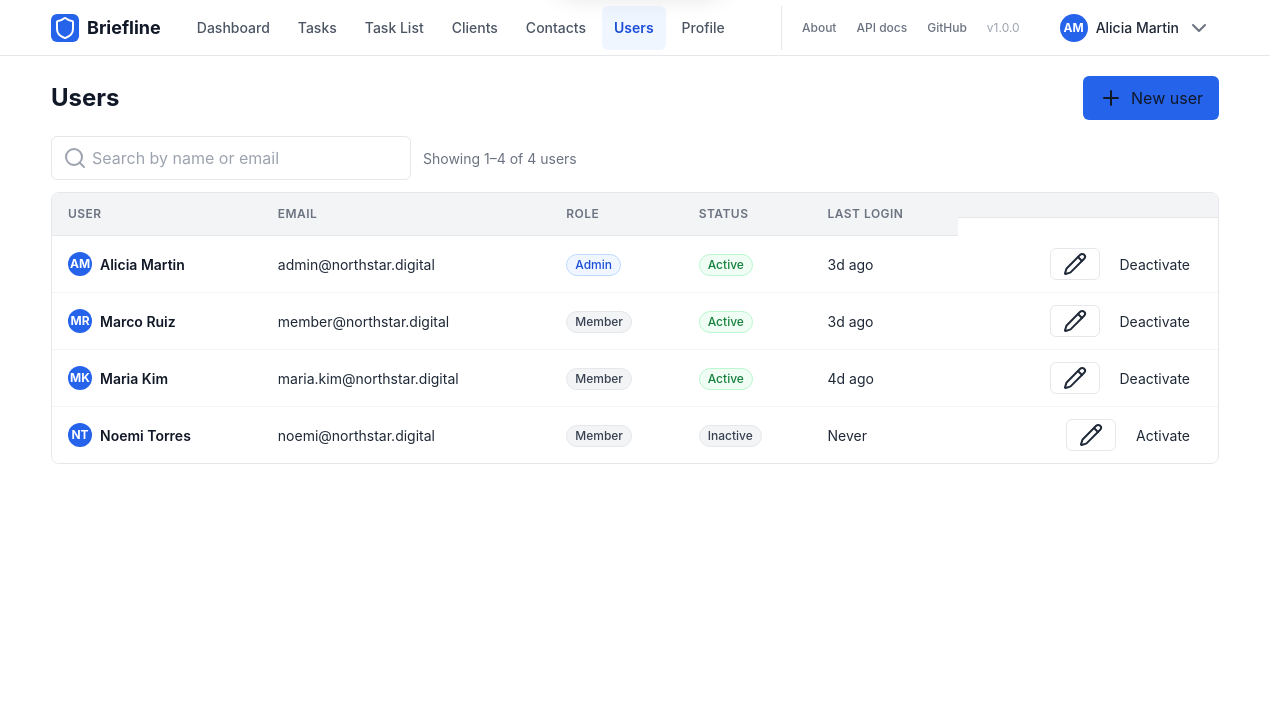
it: User management › creates a user without ever redisplaying the initial password
Expected: the heading "Users" is shown, [51,83,120,113]
Expected: the table named "Users" is shown, [52,193,1218,463]
Step 1. Click the button "New user" → (1151, 98), box [1083,76,1219,120]
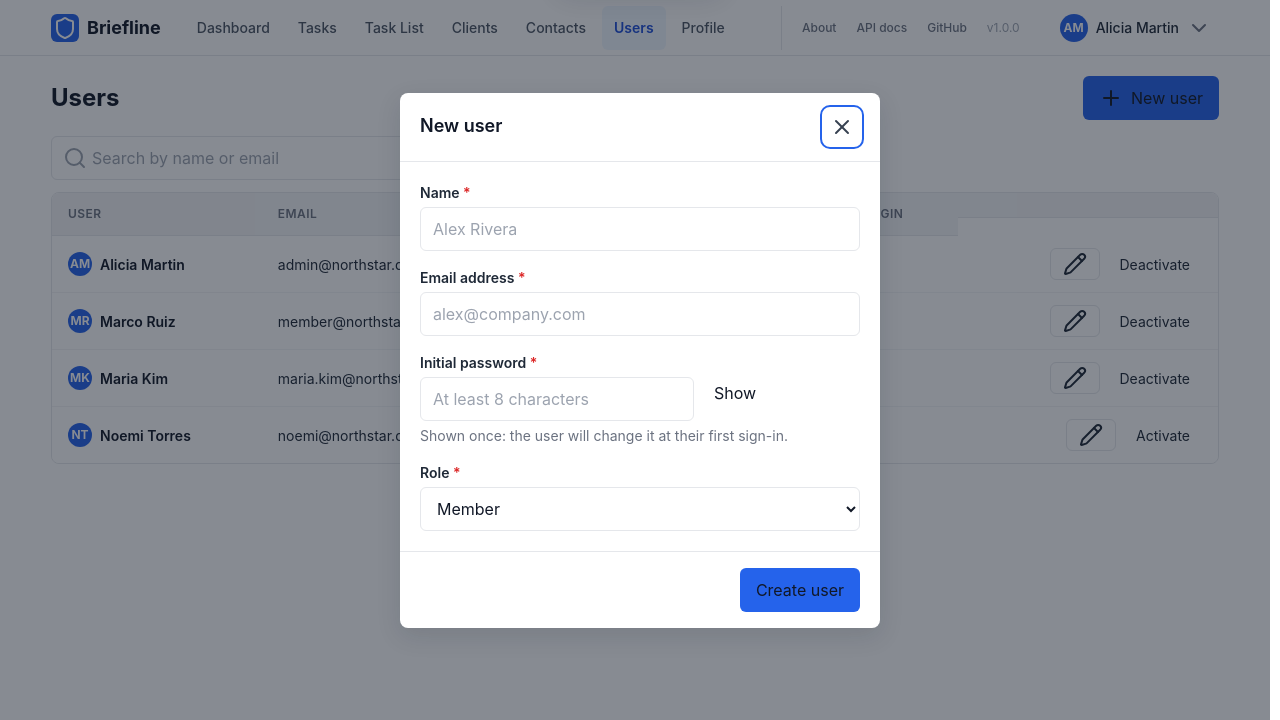
Step 2. Type "Jordan Lee" into the field labelled "Name *" → (640, 228), box [420,206,860,250]
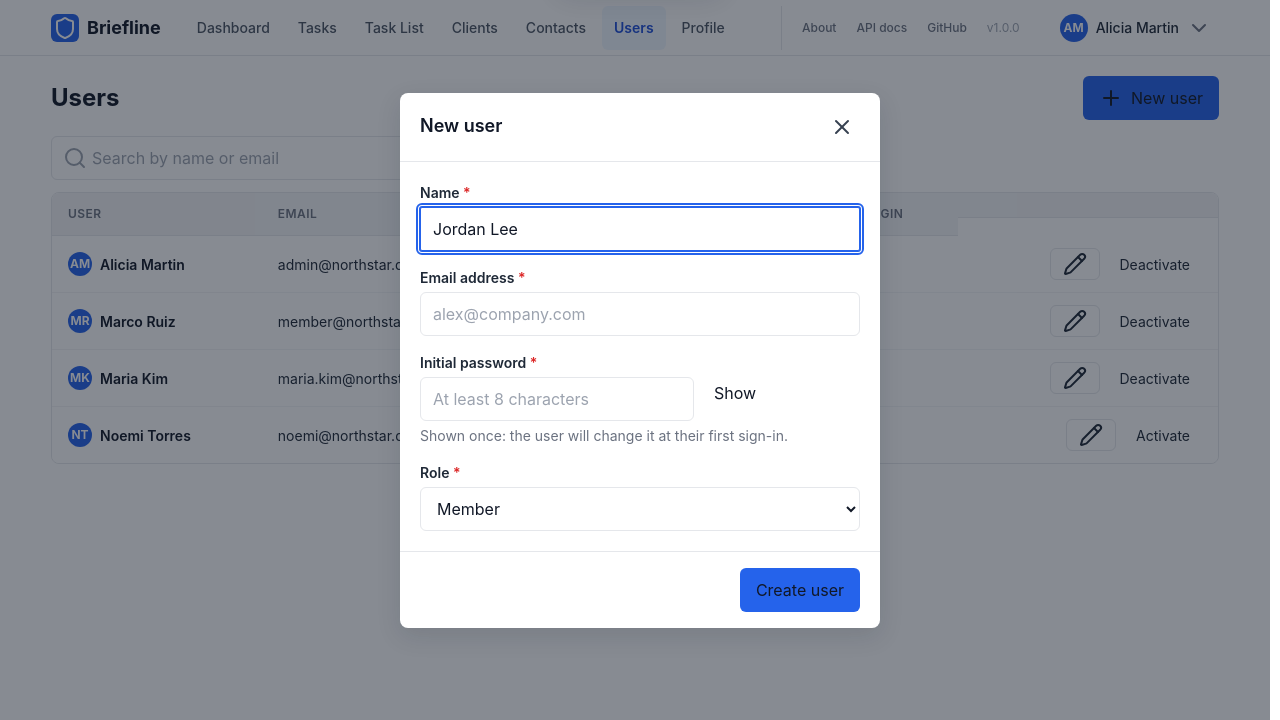
Step 3. Type "jordan.lee@northstar.digital" into the field labelled "Email address *" → (640, 314), box [420,292,860,336]
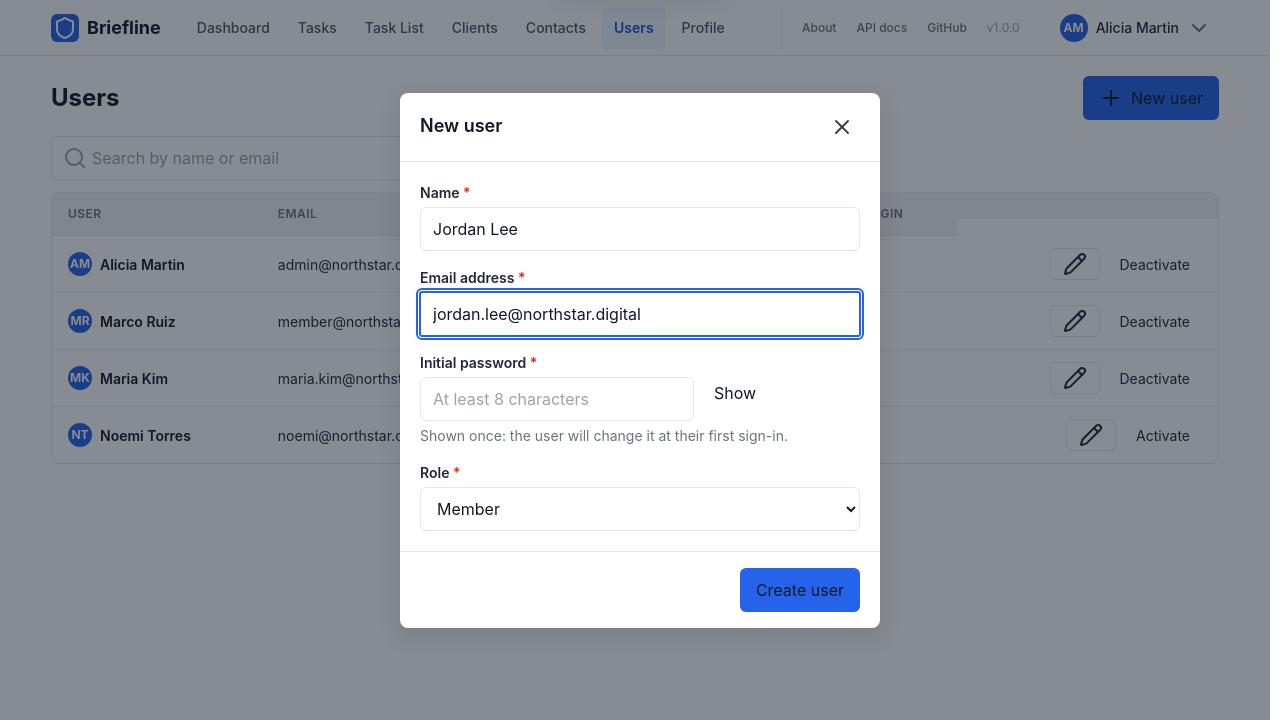
Step 4. Type "S3curePass123!" into the password field labelled "Initial password *" → (557, 398), box [420,376,694,420]
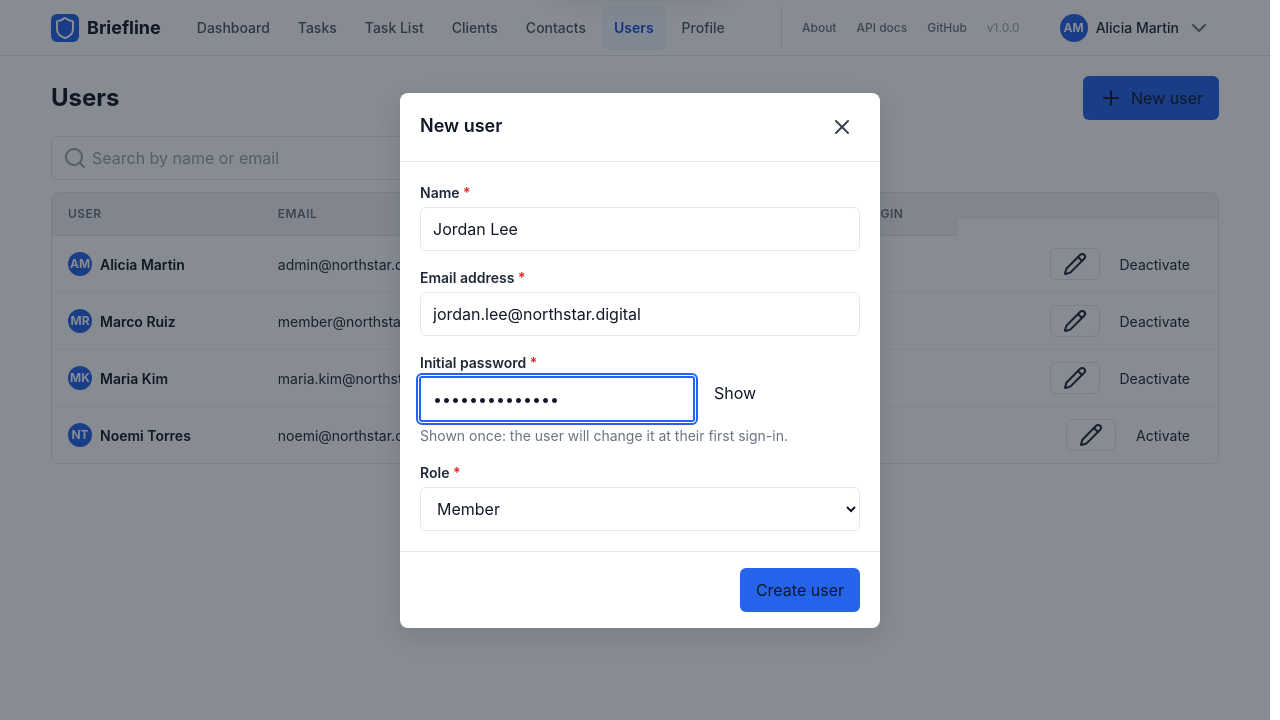
Step 5. Click the button "Create user" → (800, 590), box [740,568,860,612]
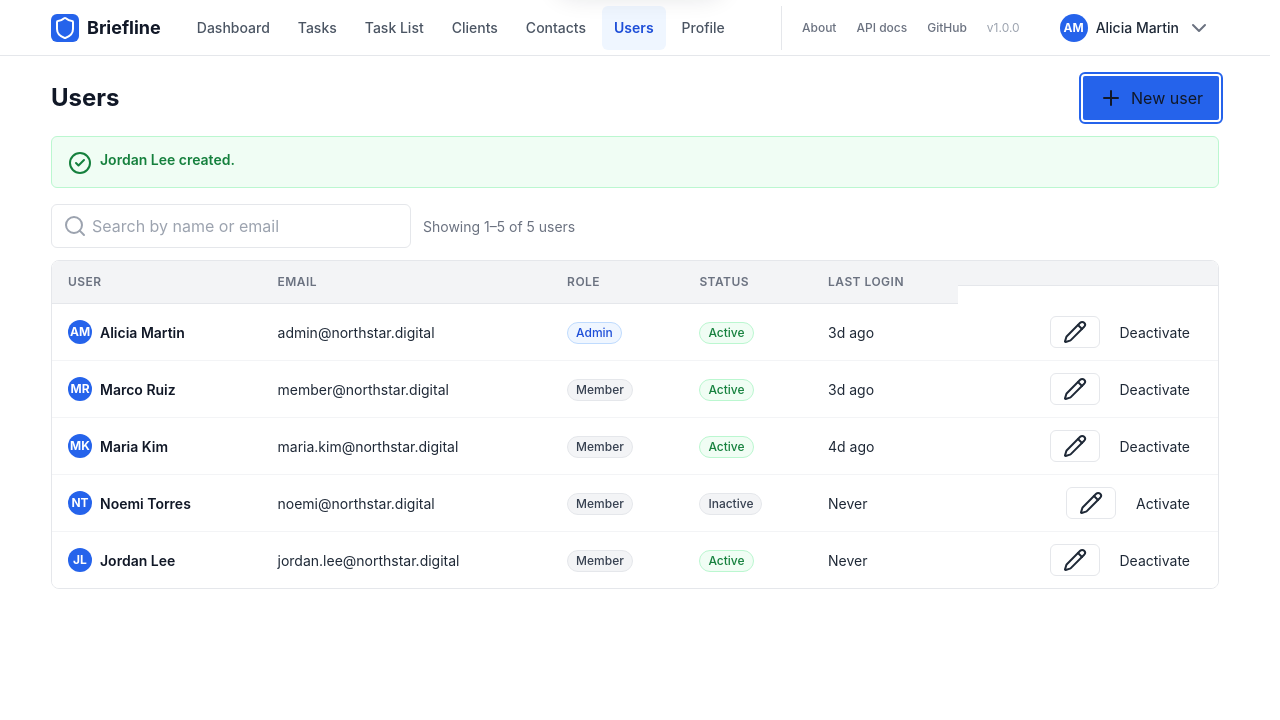
Now the text "Jordan Lee created." is shown, box [100,149,235,170]
Now the text "Jordan Lee" is shown, box [100,550,175,570]
